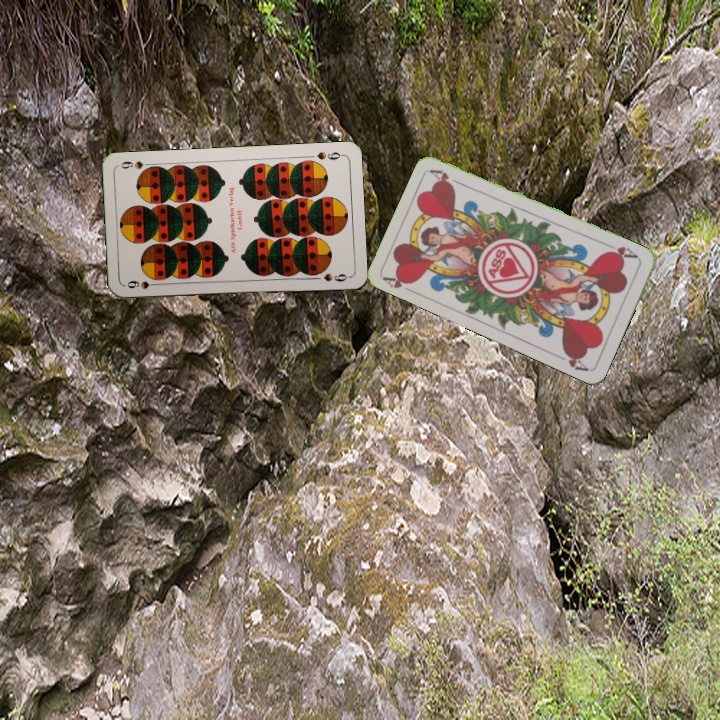HA: (380, 270, 419, 297), (601, 240, 641, 262)
S9: (123, 277, 163, 292), (313, 148, 345, 163)
